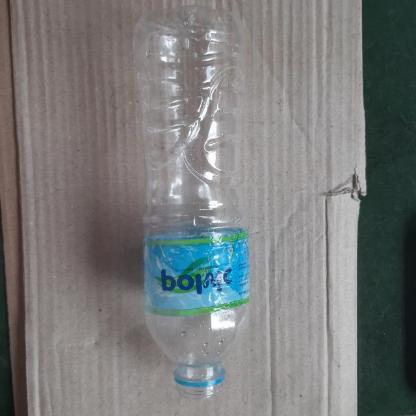Plastic Bottle: (143, 0, 251, 406)
